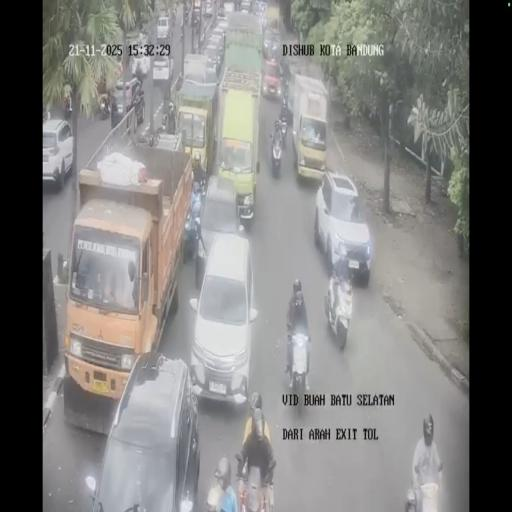car: (89, 352, 200, 508), (188, 231, 258, 405), (315, 172, 371, 285), (196, 173, 241, 264), (42, 116, 74, 190), (110, 76, 144, 127), (262, 58, 282, 101), (204, 40, 224, 79), (262, 29, 280, 61), (252, 0, 267, 23), (156, 16, 170, 39), (216, 3, 228, 20), (203, 0, 213, 18), (240, 0, 250, 12)
motorcycle: (324, 271, 354, 351), (236, 452, 273, 511), (285, 329, 311, 402), (182, 187, 202, 265), (270, 120, 283, 174), (280, 89, 292, 126), (133, 55, 146, 82), (98, 94, 110, 120), (126, 49, 135, 75), (63, 94, 72, 118), (191, 10, 201, 28), (184, 3, 190, 23), (170, 6, 176, 26), (180, 22, 184, 42)
truck: (173, 69, 219, 181), (291, 73, 329, 182), (221, 9, 264, 81), (152, 48, 172, 84)
